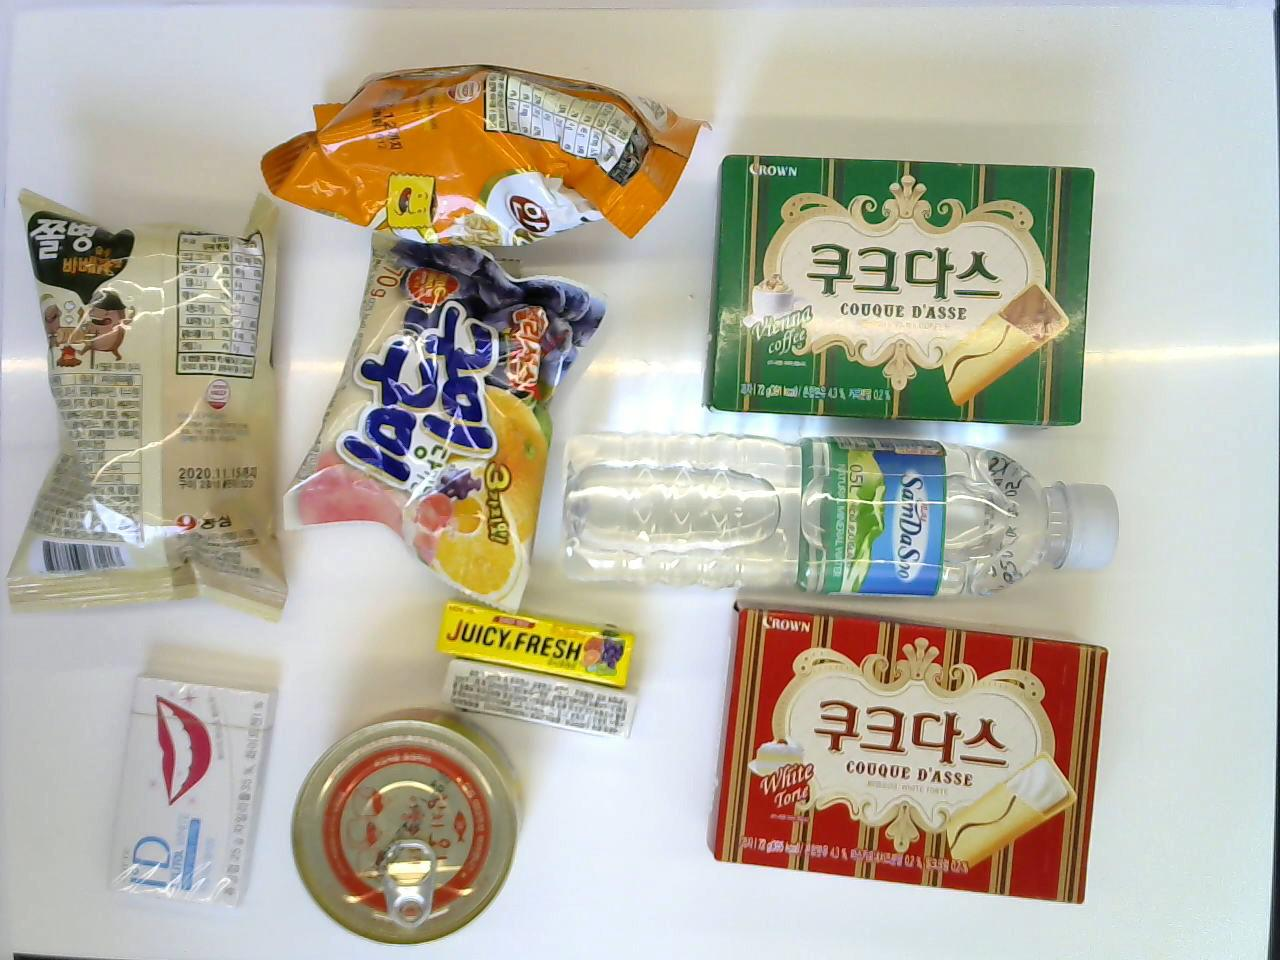ID_gum: (112, 669, 281, 904)
couque_coffee: (703, 595, 1110, 907)
couque_white: (697, 153, 1097, 428)
gumi_gumi: (283, 226, 607, 614)
jjolbyung_noodle: (256, 59, 712, 252)
jjolbyung_ori: (4, 186, 289, 623)
juicyfresh: (433, 602, 638, 685)
samdasu: (554, 434, 1121, 603)
spearmint: (438, 656, 640, 742)
tuna: (290, 705, 523, 950)
